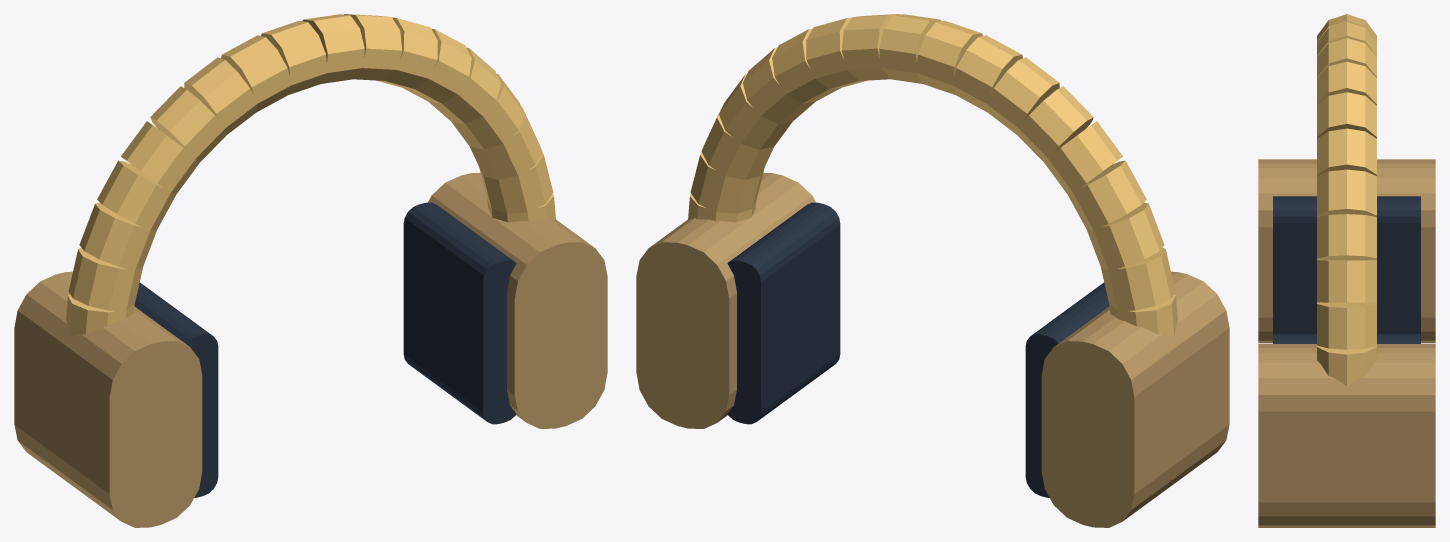
Rendered from headphones.glb.
The picture shows the model from 3 angles, left to right: view 1: azimuth 30°, elevation 25°; view 2: azimuth 150°, elevation 25°; view 3: azimuth 270°, elevation 25°; orthographic projection. The views are drawn at different scales.
Visible parts, largest first — view 1: left cup, right cup, right pad, left pad, headband15, headband14, headband12, headband16, headband11, headband13, headband10, headband9 (+10 smaller); view 2: left cup, right cup, right pad, left pad, headband15, headband14, headband12, headband16, headband11, headband13, headband10, headband9 (+10 smaller); view 3: right cup, left pad, left cup, headband1, headband3, headband4, headband2, headband5, headband6, headband7, headband0, headband8 (+3 smaller).
Part boxes in pixels (box(x1,y1,x2,y2)): left cup: box(14, 271, 202, 527); right cup: box(428, 172, 607, 428); right pad: box(403, 202, 516, 424); left pad: box(134, 282, 218, 497); headband15: box(79, 202, 156, 269); headband14: box(97, 160, 176, 230); headband12: box(150, 86, 226, 162); headband16: box(68, 247, 142, 310); headband11: box(184, 57, 257, 134); headband13: box(121, 121, 199, 194); headband10: box(221, 35, 292, 111); headband9: box(261, 20, 327, 94); left cup: box(1041, 271, 1229, 527); right cup: box(636, 172, 815, 428); right pad: box(727, 202, 840, 424); left pad: box(1025, 282, 1109, 497); headband15: box(1087, 202, 1164, 270); headband14: box(1067, 160, 1146, 230); headband12: box(1017, 86, 1093, 162); headband16: box(1101, 247, 1175, 310); headband11: box(986, 57, 1059, 134); headband13: box(1044, 121, 1122, 194); headband10: box(951, 35, 1022, 111); headband9: box(917, 20, 982, 94); right cup: box(1258, 344, 1435, 527); left pad: box(1273, 196, 1420, 333); left cup: box(1258, 159, 1435, 343); headband1: box(1317, 302, 1376, 349); headband3: box(1317, 214, 1376, 259); headband4: box(1317, 169, 1376, 216); headband2: box(1317, 260, 1376, 302); headband5: box(1317, 128, 1376, 176); headband6: box(1317, 92, 1376, 138); headband7: box(1317, 61, 1376, 105); headband0: box(1317, 345, 1376, 385); headband8: box(1317, 38, 1376, 77).
Bounding box in the file's own units: 1.45 × 1.17 × 0.48.
